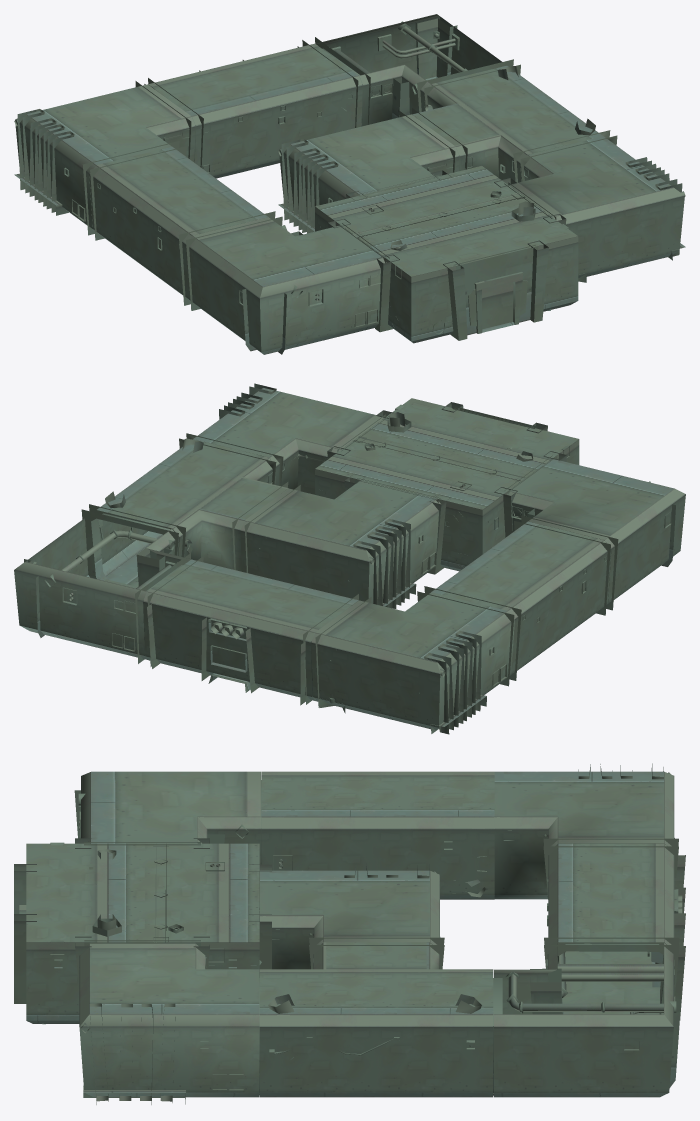
Rendered from Combined_Mesh_root_scene__20_a4a1e6c2__zombies2_diffuse_09_d56e2e54_c1f257.obj.
3 renders of one model, top to bottom at view 1: azimuth 30°, elevation 25°; view 2: azimuth 150°, elevation 25°; view 3: azimuth 270°, elevation 25°, orthographic. The views are drawn at different scales.
Bounding box in the file's own units: 51.83 × 9.64 × 57.56.
Materials: 131 (131 with a texture image).
